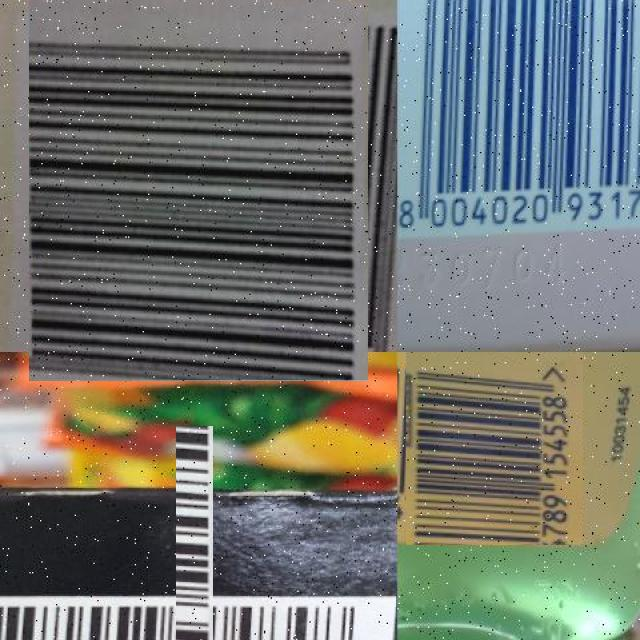Barcode: (15, 0, 384, 367), (398, 0, 640, 242), (401, 356, 587, 541), (88, 514, 302, 640)
